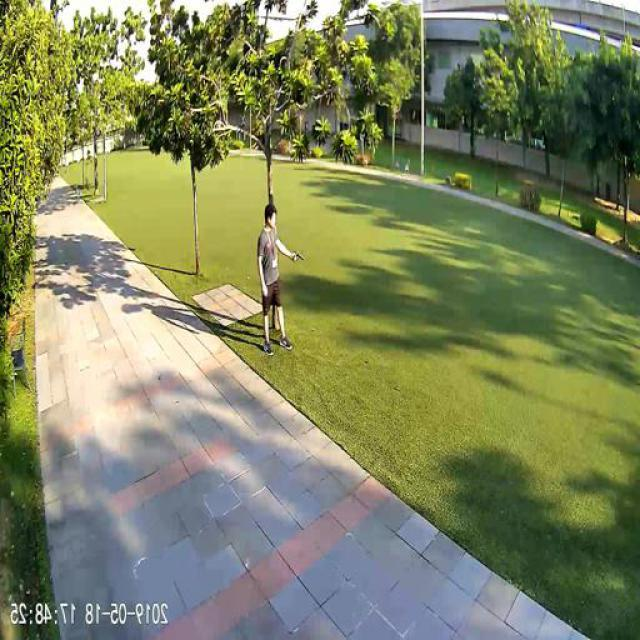Gun: (294, 248, 306, 262)
